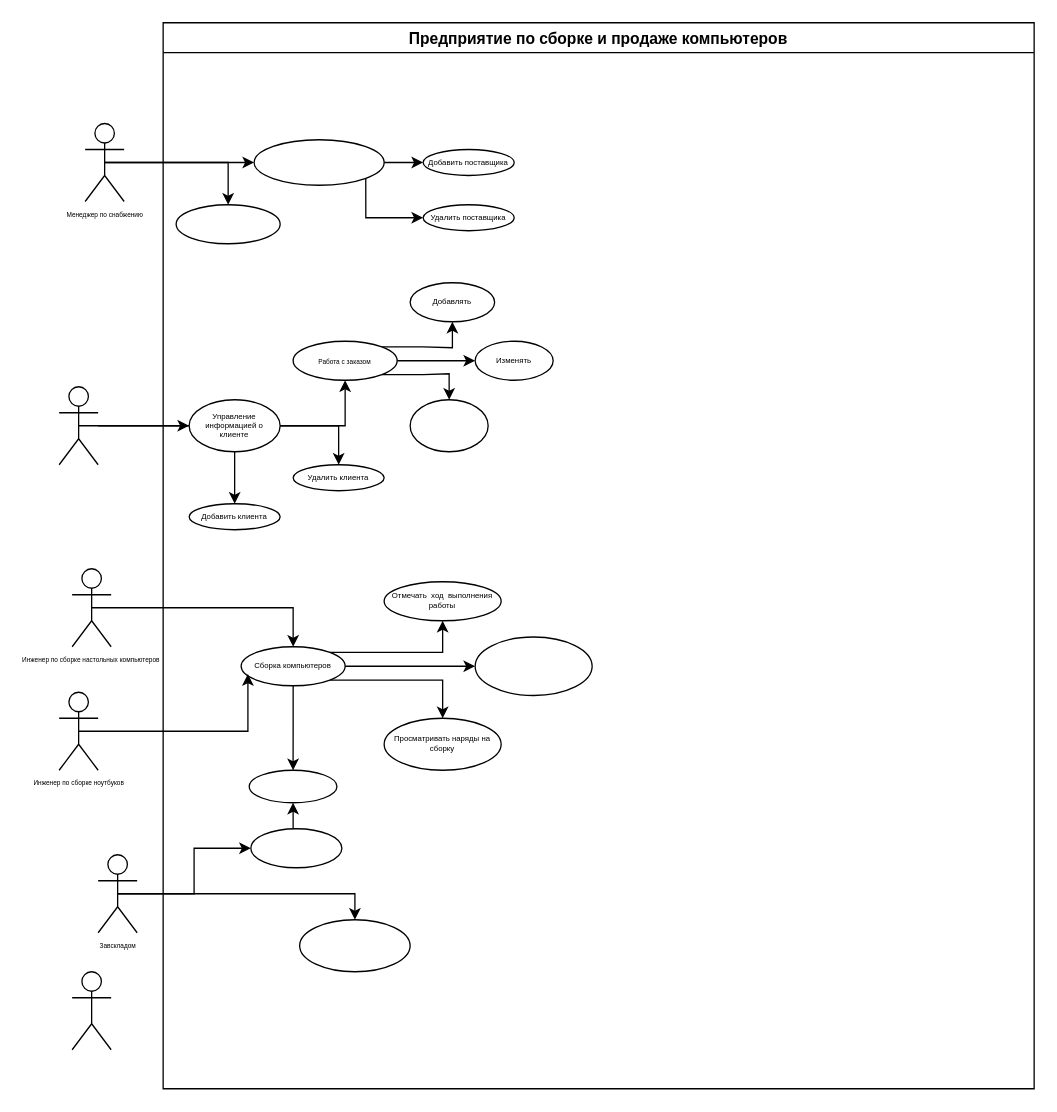
This 1057x1112 diagram has some shape labels left out. The centre of each missing label's shape, as x and y in pixels:
"Выдача запчастей со склада" belongs at [296,847].
"Запрос необходимых комплектующих" belongs at [292,786].
"Инженер по тестированию" belongs at [91,1010].
"Менеджер по работе с клиентами" belongs at [78,425].
"Удалять" belongs at [448,425].
"Управление информацией о поставках" belongs at [318,161].
"Управление о поставках" belongs at [227,223].
"Учет поступления и выдачи комплектующих" belongs at [354,945].
